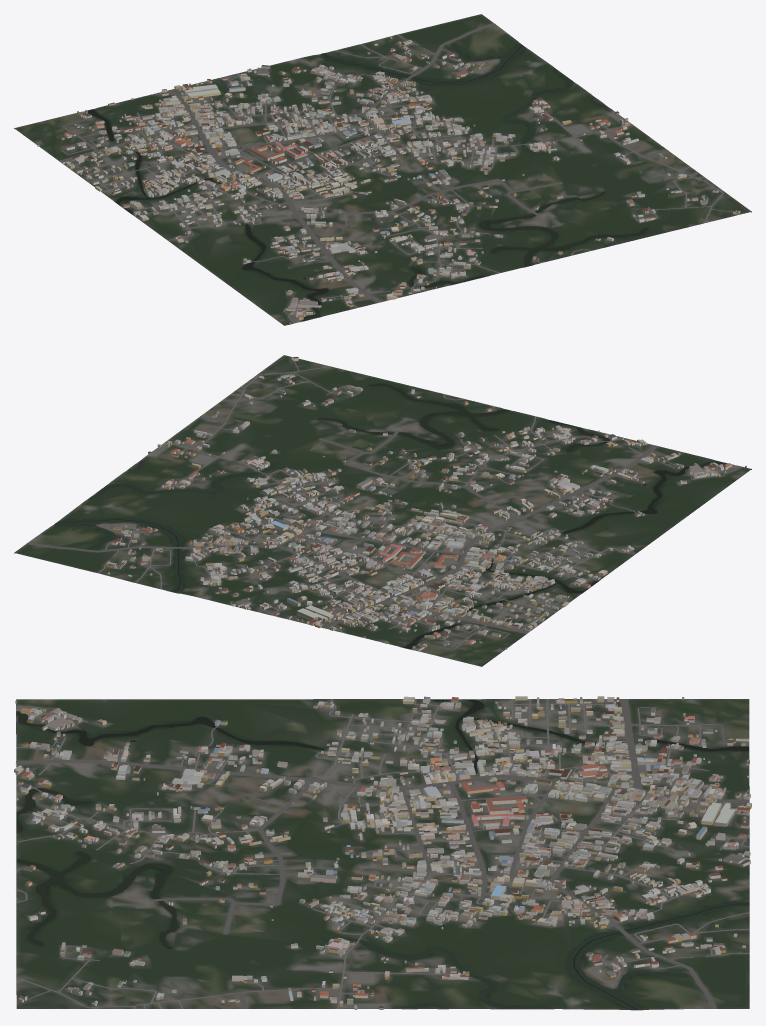
3 renders of one model, top to bottom at view 1: azimuth 30°, elevation 25°; view 2: azimuth 150°, elevation 25°; view 3: azimuth 270°, elevation 25°, orthographic. The views are drawn at different scales.
Parts seen in each view (by area): view 1: ground, buildings, roads, water; view 2: ground, buildings, roads, water; view 3: ground, buildings, roads, water.
Boxes of the visible parts, left/top/right/bottom form: ground: left=14, top=14, right=751, bottom=325; buildings: left=37, top=36, right=740, bottom=324; roads: left=59, top=23, right=732, bottom=323; water: left=87, top=43, right=648, bottom=321; ground: left=14, top=355, right=751, bottom=666; buildings: left=106, top=357, right=746, bottom=651; roads: left=26, top=362, right=741, bottom=649; water: left=54, top=383, right=733, bottom=648; ground: left=16, top=699, right=749, bottom=1010; buildings: left=14, top=696, right=751, bottom=1009; roads: left=15, top=699, right=749, bottom=1009; water: left=16, top=699, right=749, bottom=1009.
Size of the model in its own units: 1406 by 19.1 by 1410.
